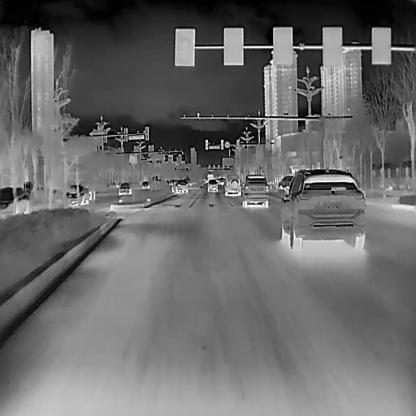car: (279, 168, 365, 250), (0, 184, 29, 218), (241, 173, 269, 206), (65, 184, 95, 205), (224, 174, 241, 196), (170, 179, 188, 194), (277, 174, 292, 189), (117, 182, 131, 197), (206, 179, 216, 193), (141, 180, 150, 190)
